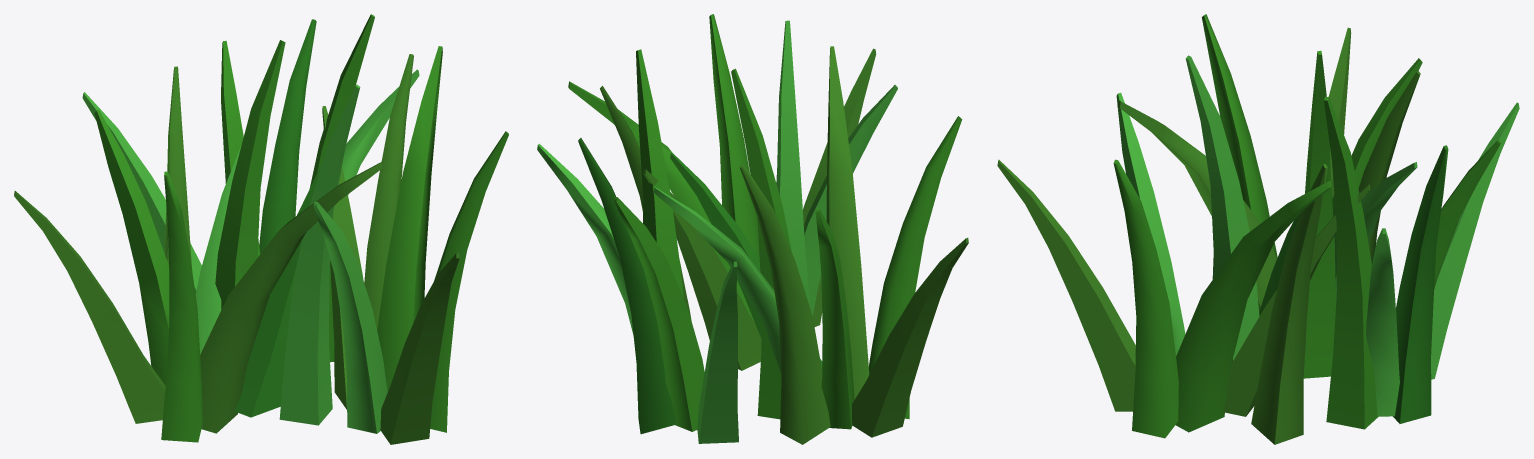
The model's file is Grass_DarkGreen_4.fbx.
3 renders of one model, left to right at view 1: azimuth 30°, elevation 25°; view 2: azimuth 150°, elevation 25°; view 3: azimuth 270°, elevation 25°, orthographic. The views are drawn at different scales.
Visible parts, largest first — view 1: Cube.359, Cube.369, Cube.357, Cube.368, Cube.360, Cube.358, Cube.370, Cube.371, Cube.373, Cube.362, Cube.363, Cube.375 (+8 smaller); view 2: Cube.374, Cube.370, Cube.364, Cube.369, Cube.363, Cube.368, Cube.373, Cube.367, Cube.356, Cube.371, Cube.359, Cube.361 (+8 smaller); view 3: Cube.357, Cube.366, Cube.375, Cube.356, Cube.363, Cube.358, Cube.371, Cube.359, Cube.365, Cube.367, Cube.368, Cube.360 (+8 smaller).
Part boxes in pixels (x1,y1,x2,y2): Cube.359: (279,84,360,425); Cube.369: (200,162,382,433); Cube.357: (377,46,442,391); Cube.368: (161,171,202,442); Cube.360: (313,201,387,433); Cube.358: (380,252,459,444); Cube.370: (14,191,165,423); Cube.371: (215,40,285,309); Cube.373: (94,109,169,385); Cube.362: (234,164,322,417); Cube.363: (259,19,316,253); Cube.375: (364,54,413,330); Cube.374: (739,164,830,444); Cube.370: (852,237,968,437); Cube.364: (613,196,704,431); Cube.369: (826,46,869,399); Cube.363: (578,138,675,434); Cube.368: (869,116,962,419); Cube.373: (815,208,854,429); Cube.367: (697,261,738,443); Cube.356: (709,14,759,257); Cube.371: (731,68,791,419); Cube.359: (776,20,809,306); Cube.361: (643,168,761,370); Cube.357: (1175,180,1331,432); Cube.366: (1324,96,1378,429); Cube.375: (1251,163,1327,444); Cube.356: (1113,159,1178,438); Cube.363: (1393,145,1448,423); Cube.358: (997,159,1135,411); Cube.371: (1303,50,1335,378); Cube.359: (1185,55,1259,361); Cube.365: (1366,228,1399,416); Cube.367: (1431,102,1519,379); Cube.368: (1201,14,1277,258); Cube.360: (1116,92,1185,356).
Bounding box in the file's own units: 159 × 123 × 169.
